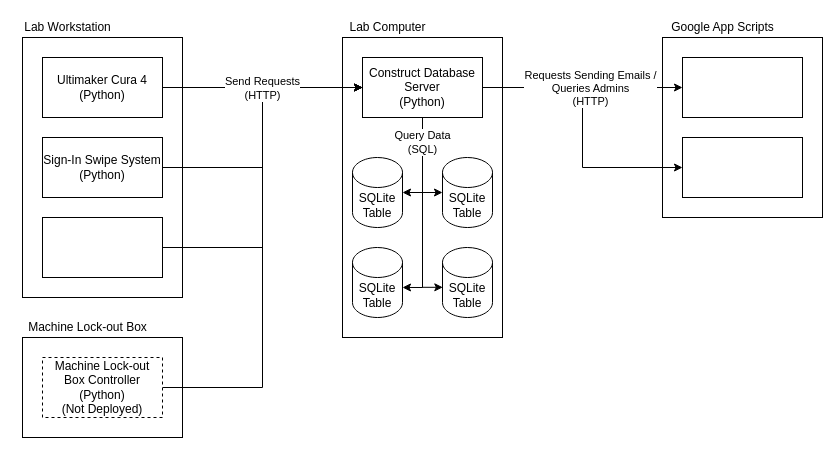
Some shapes in this 840 by 455 pixel diagram are drawn without their labels. Each missing label, with the box of its shape:
Admin Registry Spreadsheet (Google App Script): (682, 136, 802, 198)
Admin UI (JavaScript): (42, 216, 162, 278)
Gmail Script (Google App Script): (682, 56, 802, 118)
